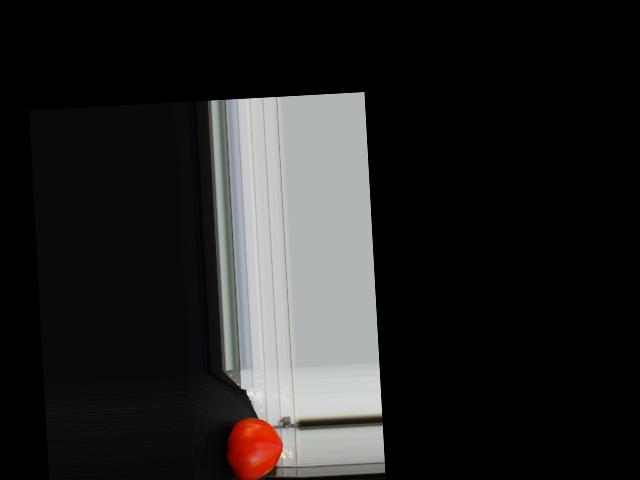tomato: (224, 416, 284, 480)
